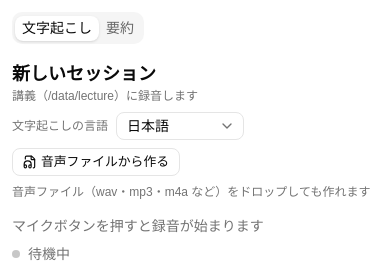
Test: SessionView の新しいセッション › 文字起こしの言語は今回だけ変え、全体設定は書き換えない（#482）
Press the mouse on the dropdown named "文字起こしの言語" at (180, 126), box x1=116 y1=112 x2=244 y2=140
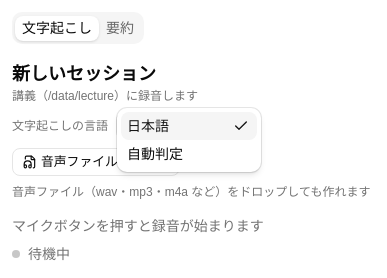
Click the option "自動判定" at (155, 154), box x1=127 y1=146 x2=183 y2=162
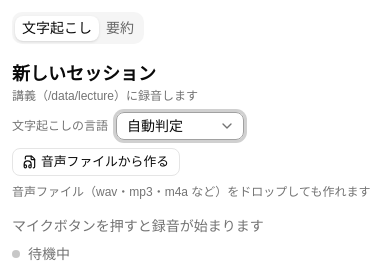
Expected: the dropdown named "文字起こしの言語" reads "自動判定", x1=116 y1=112 x2=244 y2=140
